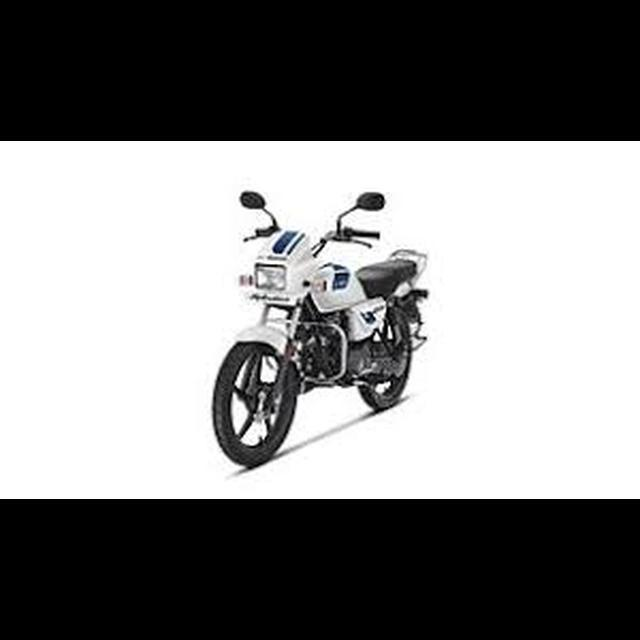motorcycle: (207, 183, 434, 470)
